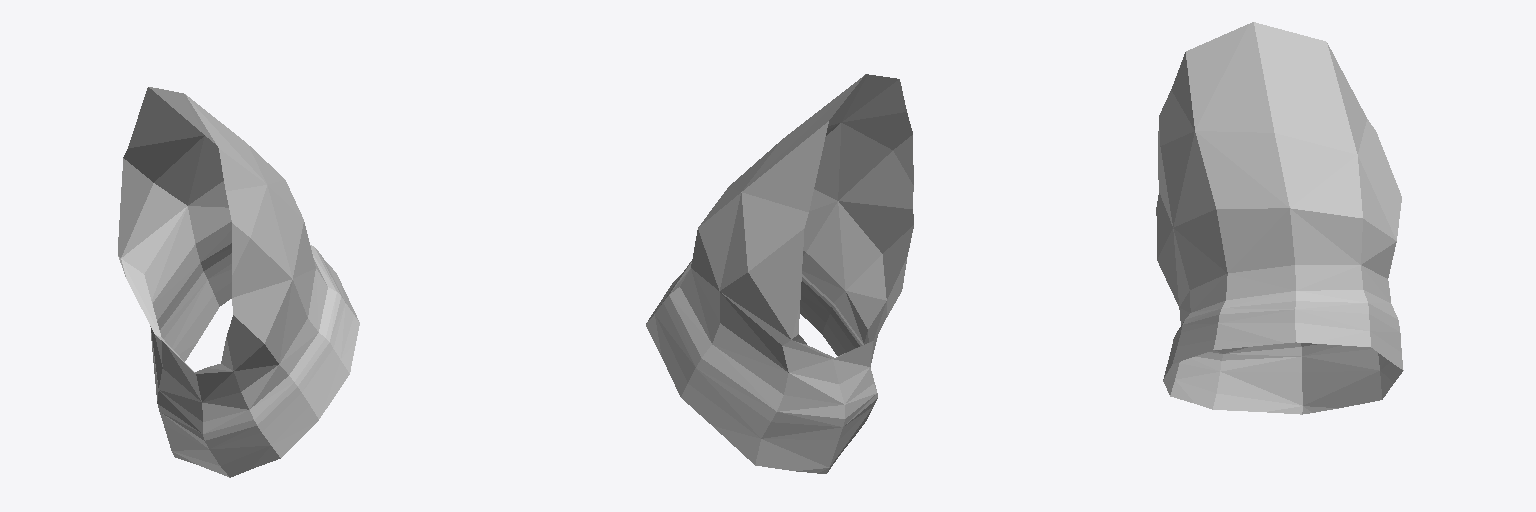
Rendered from Rarm.obj.
The picture shows the model from 3 angles: view 1: azimuth 30°, elevation 25°; view 2: azimuth 150°, elevation 25°; view 3: azimuth 270°, elevation 25°; orthographic projection.
Parts seen in each view (by area): view 1: polySurface22 polySurface10 polySurface3 Mesh; view 2: polySurface22 polySurface10 polySurface3 Mesh; view 3: polySurface22 polySurface10 polySurface3 Mesh.
Boxes of the visible parts, box(x1,y1,x2,y2) form: polySurface22 polySurface10 polySurface3 Mesh: box(118, 87, 359, 477); polySurface22 polySurface10 polySurface3 Mesh: box(646, 74, 913, 473); polySurface22 polySurface10 polySurface3 Mesh: box(1156, 22, 1403, 414).
Bounding box in the file's own units: 0.351 × 0.7352 × 0.4273.